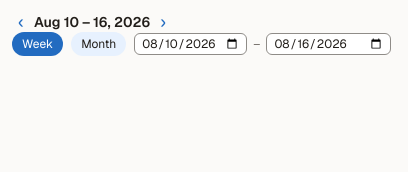
Test: RangeNav with RangeControls › steps a week to the next Monday-to-Sunday week and keeps Week selected
This screenshot has width=408, height=172.
Click the button named "Next period" at (163, 22), box [154, 13, 172, 31]
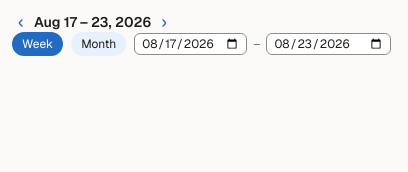
Now the 1st date field named "Range start" holds "2026-08-17", box [134, 33, 247, 55]
Now the 2nd date field named "Range end" holds "2026-08-23", box [266, 33, 391, 55]
